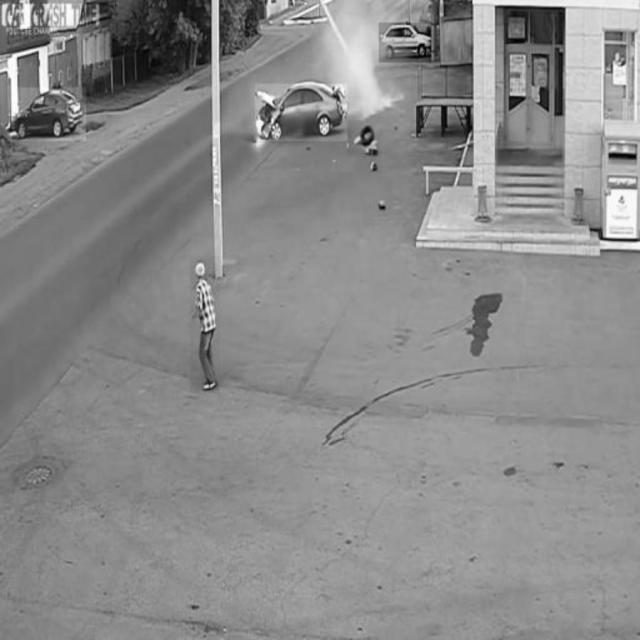person: (191, 257, 221, 394)
vehicle: (255, 85, 347, 142), (14, 88, 86, 142), (380, 23, 432, 63)
